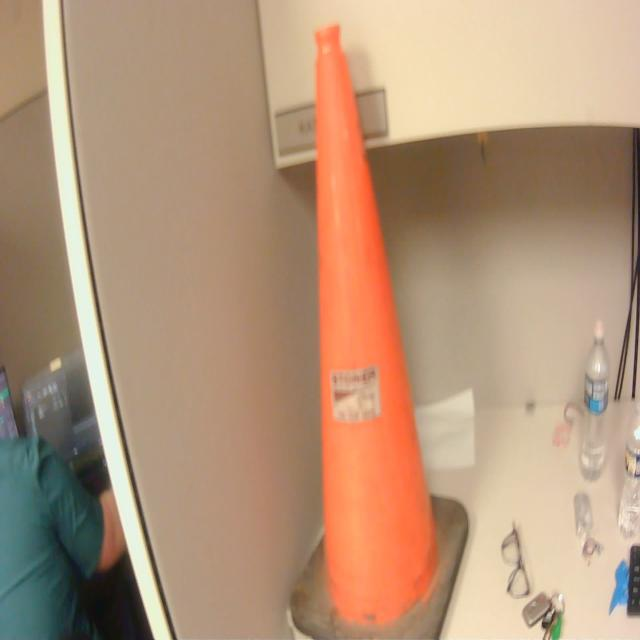traffic cone: (285, 18, 472, 640)
